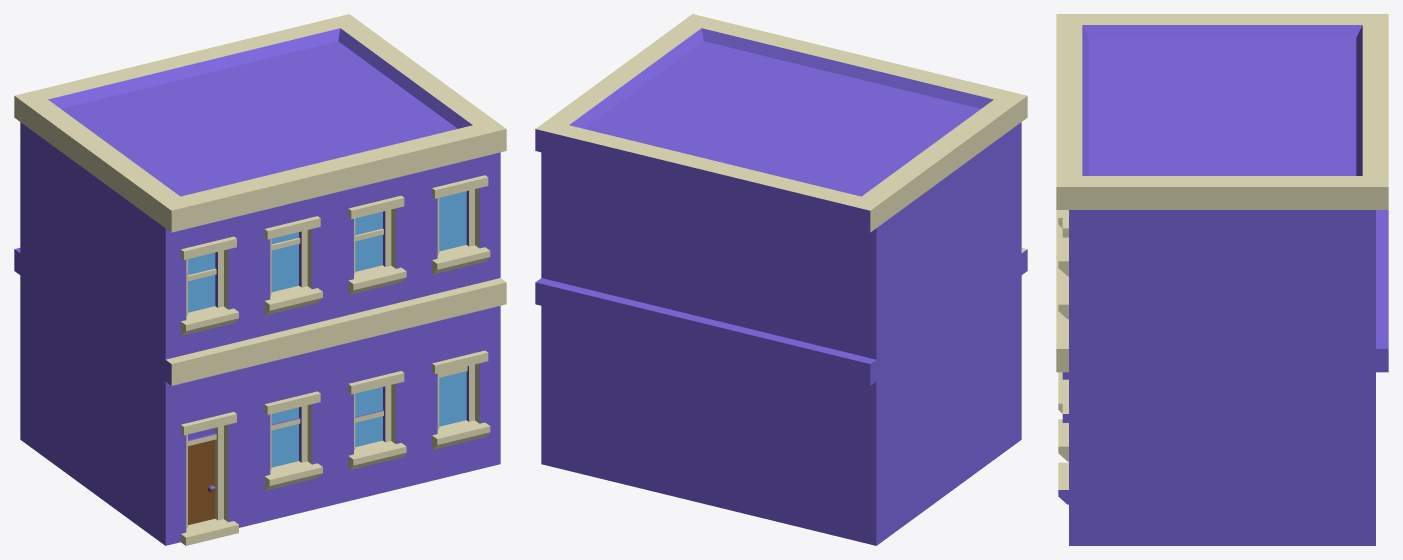
File: nha5.glb
3 views of the same model, side by side, from view 1: azimuth 30°, elevation 25°; view 2: azimuth 150°, elevation 25°; view 3: azimuth 270°, elevation 25° (orthographic). The views are drawn at different scales.
Visible parts, largest first — view 1: building_B_withoutBase_Cube.941; view 2: building_B_withoutBase_Cube.941; view 3: building_B_withoutBase_Cube.941.
Boxes of the visible parts, x1,y1,x2,y2 form: building_B_withoutBase_Cube.941: [14, 14, 506, 545]; building_B_withoutBase_Cube.941: [535, 14, 1027, 545]; building_B_withoutBase_Cube.941: [1056, 14, 1388, 545].
Bounding box in the file's own units: 1.61 × 1.55 × 1.3.
